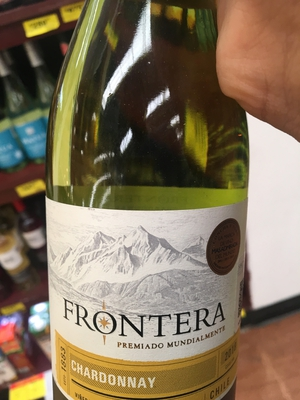frontera chardonnay: (45, 20, 245, 400)
